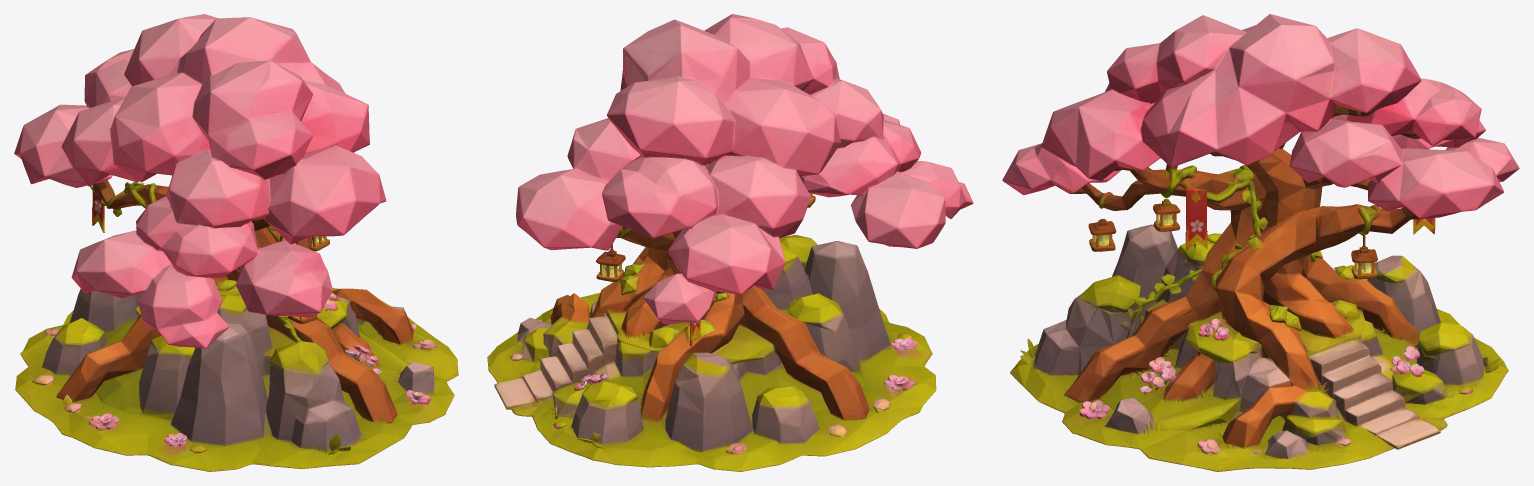
Rendered from KeepSakeHugeTree.glb.
3 renders of one model, left to right at view 1: azimuth 30°, elevation 25°; view 2: azimuth 150°, elevation 25°; view 3: azimuth 270°, elevation 25°, orthographic. The views are drawn at different scales.
Visible parts, largest first — view 1: tripo_node_3d926c4a-dad2-4205-a0b7-81727f70b901; view 2: tripo_node_3d926c4a-dad2-4205-a0b7-81727f70b901; view 3: tripo_node_3d926c4a-dad2-4205-a0b7-81727f70b901.
Part boxes in pixels (<box>): tripo_node_3d926c4a-dad2-4205-a0b7-81727f70b901: <box>14,14,458,471</box>; tripo_node_3d926c4a-dad2-4205-a0b7-81727f70b901: <box>487,14,973,471</box>; tripo_node_3d926c4a-dad2-4205-a0b7-81727f70b901: <box>1002,14,1519,471</box>.
Bounding box in the file's own units: 0.866 × 0.7576 × 0.9799.
Materials: 1 (1 with a texture image).
